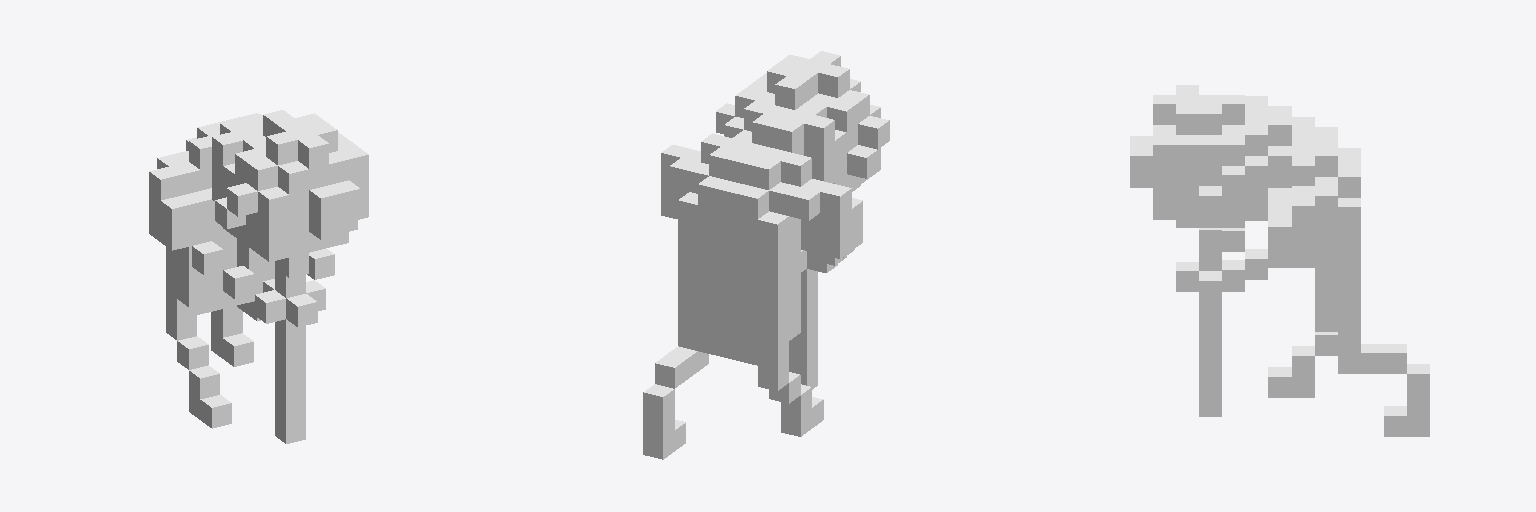
The model's file is SwingingBoyCharacter-6.obj.
The picture shows the model from 3 angles: view 1: azimuth 30°, elevation 25°; view 2: azimuth 150°, elevation 25°; view 3: azimuth 270°, elevation 25°; orthographic projection.
Parts seen in each view (by area): view 1: SwingingBoyCharacter-6; view 2: SwingingBoyCharacter-6; view 3: SwingingBoyCharacter-6.
Boxes of the visible parts, box(x1,y1,x2,y2) form: SwingingBoyCharacter-6: box(149, 110, 368, 443); SwingingBoyCharacter-6: box(643, 51, 889, 459); SwingingBoyCharacter-6: box(1130, 85, 1429, 436).
Bounding box in the file's own units: 9 × 15 × 13.